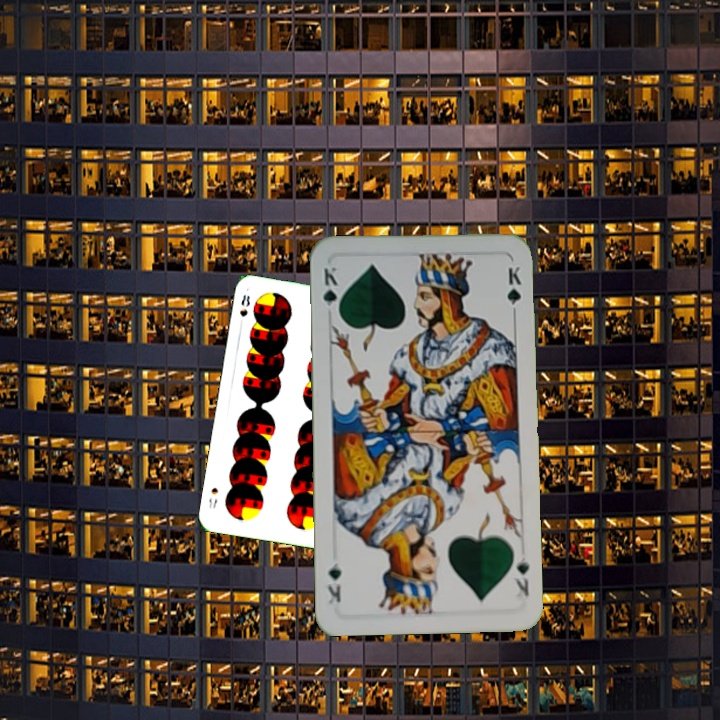GK: (318, 263, 342, 319), (510, 553, 532, 598)
S8: (236, 291, 252, 329)
